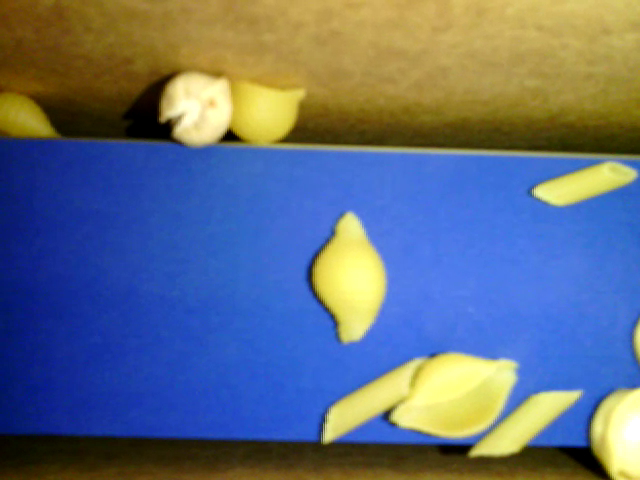penne: (320, 359, 428, 444), (468, 386, 586, 458), (528, 160, 639, 209)
shell: (387, 353, 520, 440), (305, 208, 388, 346), (230, 77, 306, 146), (1, 89, 70, 139)
tortellini: (589, 387, 639, 479)
